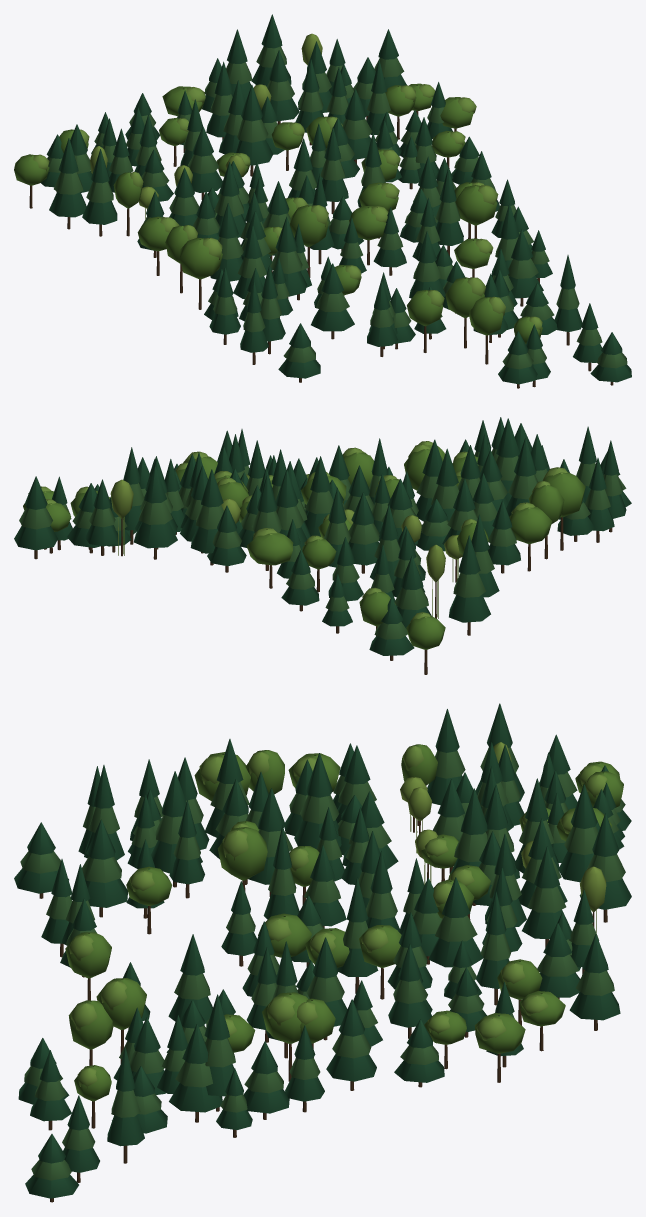
Rendered from forest_1_6.dae.
3 renders of one model, top to bottom at view 1: azimuth 30°, elevation 25°; view 2: azimuth 150°, elevation 25°; view 3: azimuth 270°, elevation 25°, orthographic. The views are drawn at different scales.
Visible parts, largest first — view 1: forest_1_6; view 2: forest_1_6; view 3: forest_1_6.
Part boxes in pixels (x1,y1,x2,y2): forest_1_6: (14,14,631,388); forest_1_6: (14,417,631,674); forest_1_6: (14,703,631,1202).
Size of the model in its own units: 135 by 135 by 75.19.
